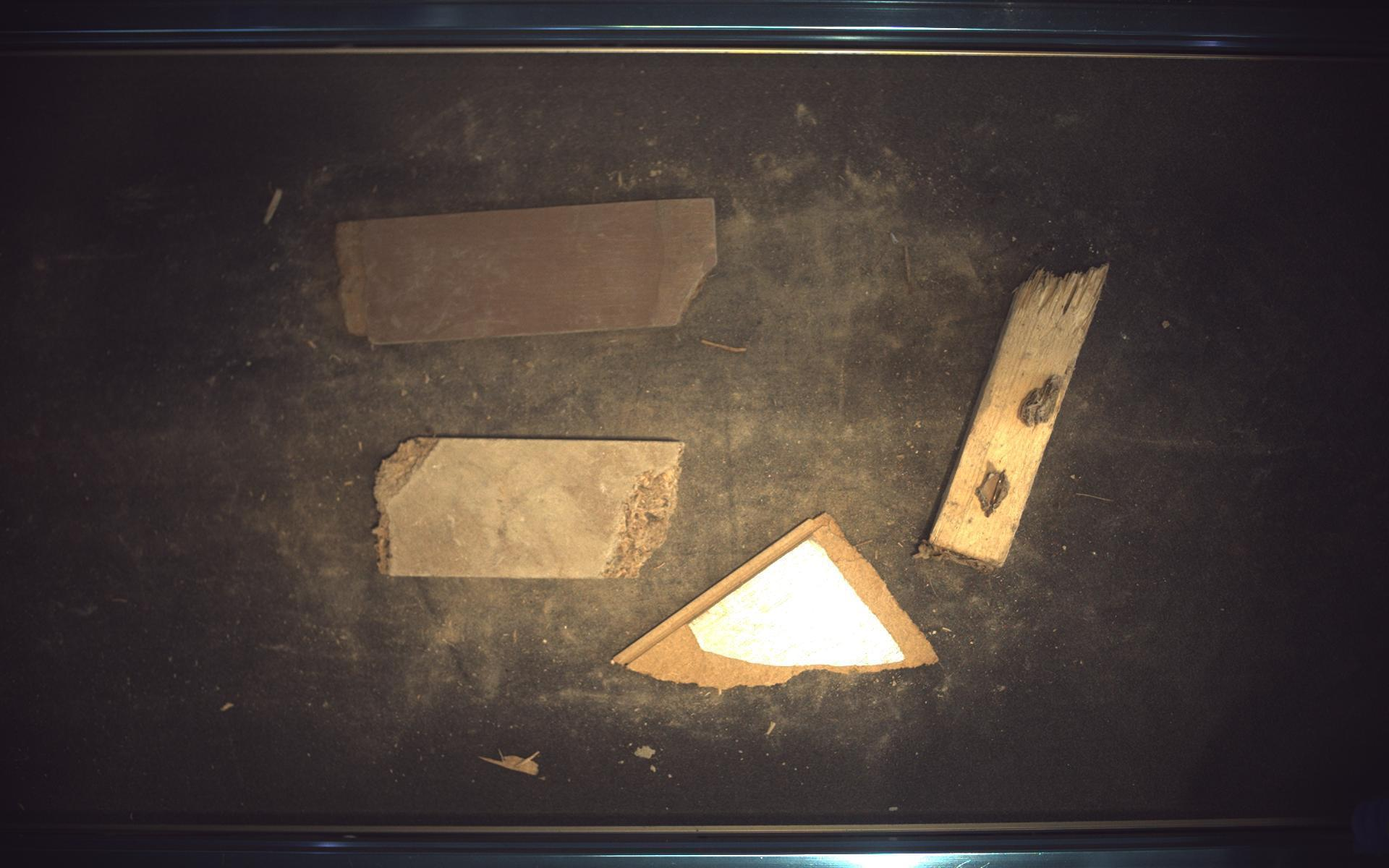wood: (919, 264, 1111, 569), (614, 514, 940, 692), (336, 197, 718, 344), (374, 438, 685, 579), (479, 752, 540, 778)
